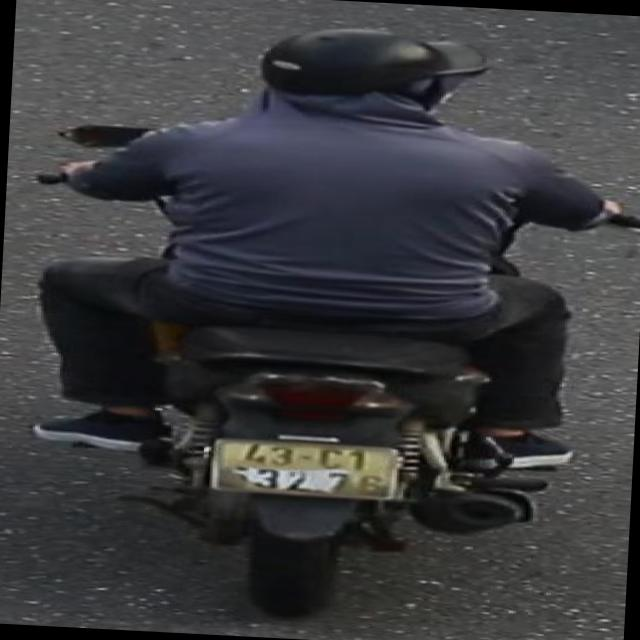LP: (204, 432, 416, 506)
helmet: (244, 16, 504, 142)
